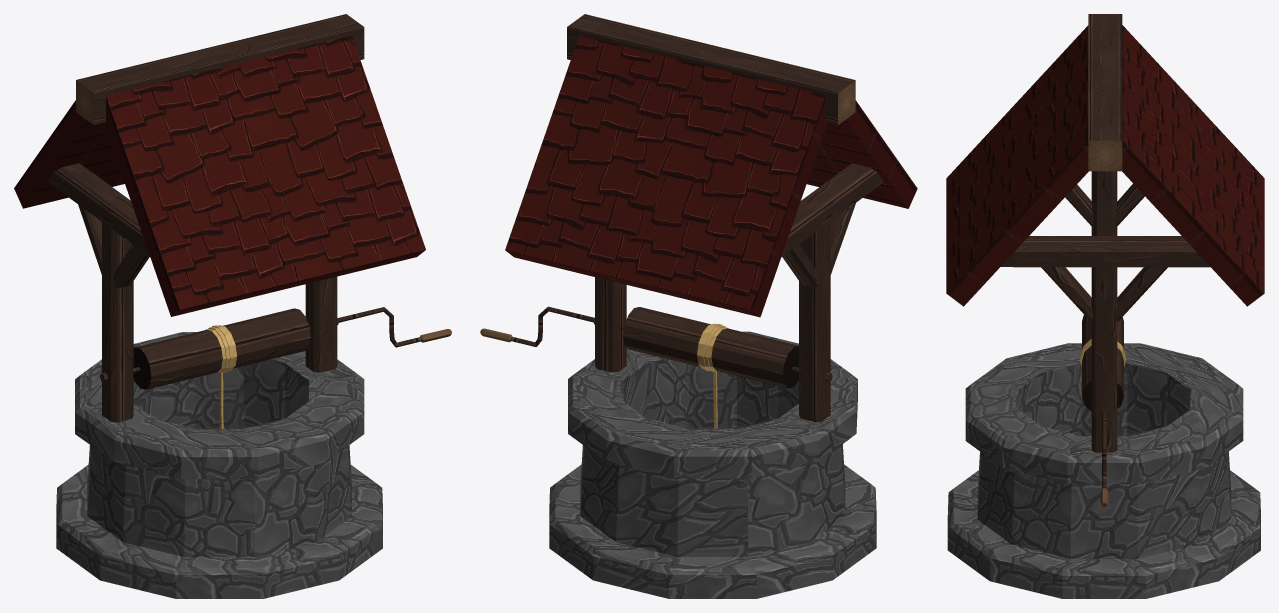
The model's file is Studnia.fbx.
The picture shows the model from 3 angles, left to right: view 1: azimuth 30°, elevation 25°; view 2: azimuth 150°, elevation 25°; view 3: azimuth 270°, elevation 25°; orthographic projection. The views are drawn at different scales.
Parts seen in each view (by area): view 1: well; view 2: well; view 3: well.
Boxes of the visible parts, x1,y1,x2,y2 form: well: [14, 14, 451, 598]; well: [480, 14, 917, 598]; well: [946, 14, 1264, 598].
Bounding box in the file's own units: 1.46 × 1.77 × 1.12.
